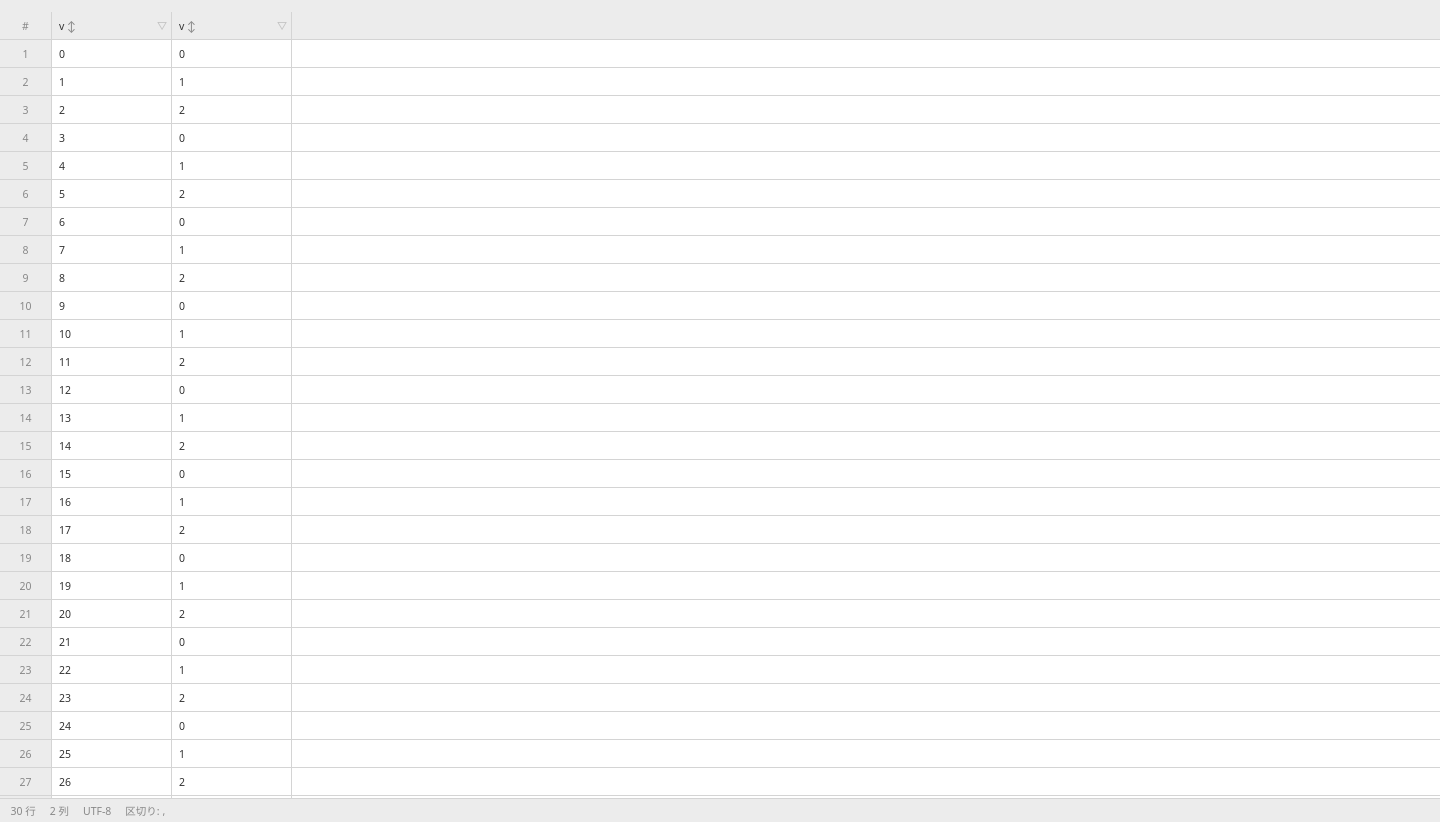
CsvViewer の同じ名前の列のフィルタ › 片方の列の条件を解除しても、同じ名前のもう片方の条件は残る
The width and height of the screenshot is (1440, 822).
Later steps or results of the test are not shown.
Click the 2nd button titled "フィルタ".
click(282, 26)  # box [273,12,291,40]
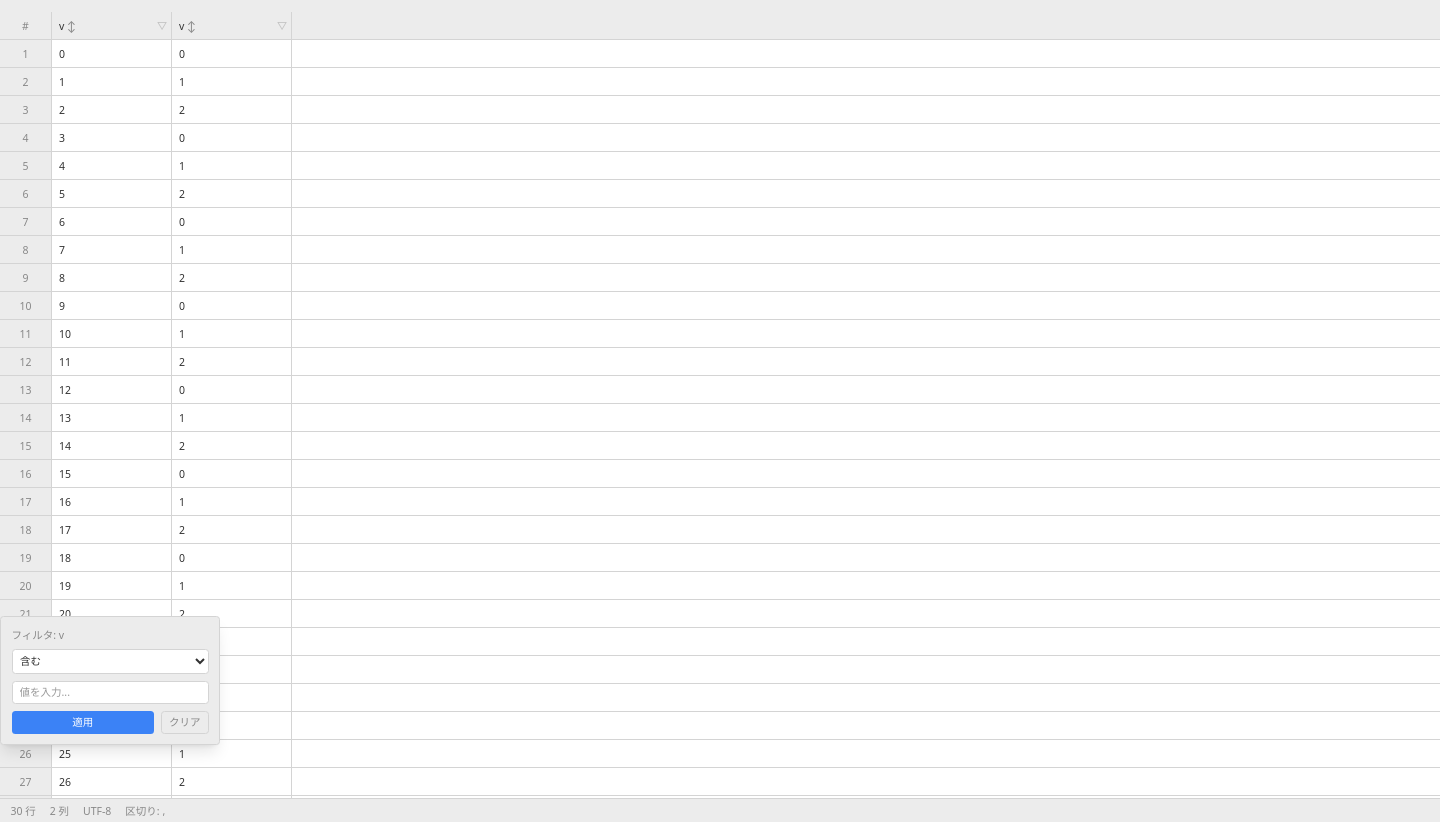
Type "1" into the field with placeholder "値を入力...".
click(110, 692); type("1")  # box [12,680,208,704]
Click the button "適用".
click(83, 722)  # box [12,710,154,734]
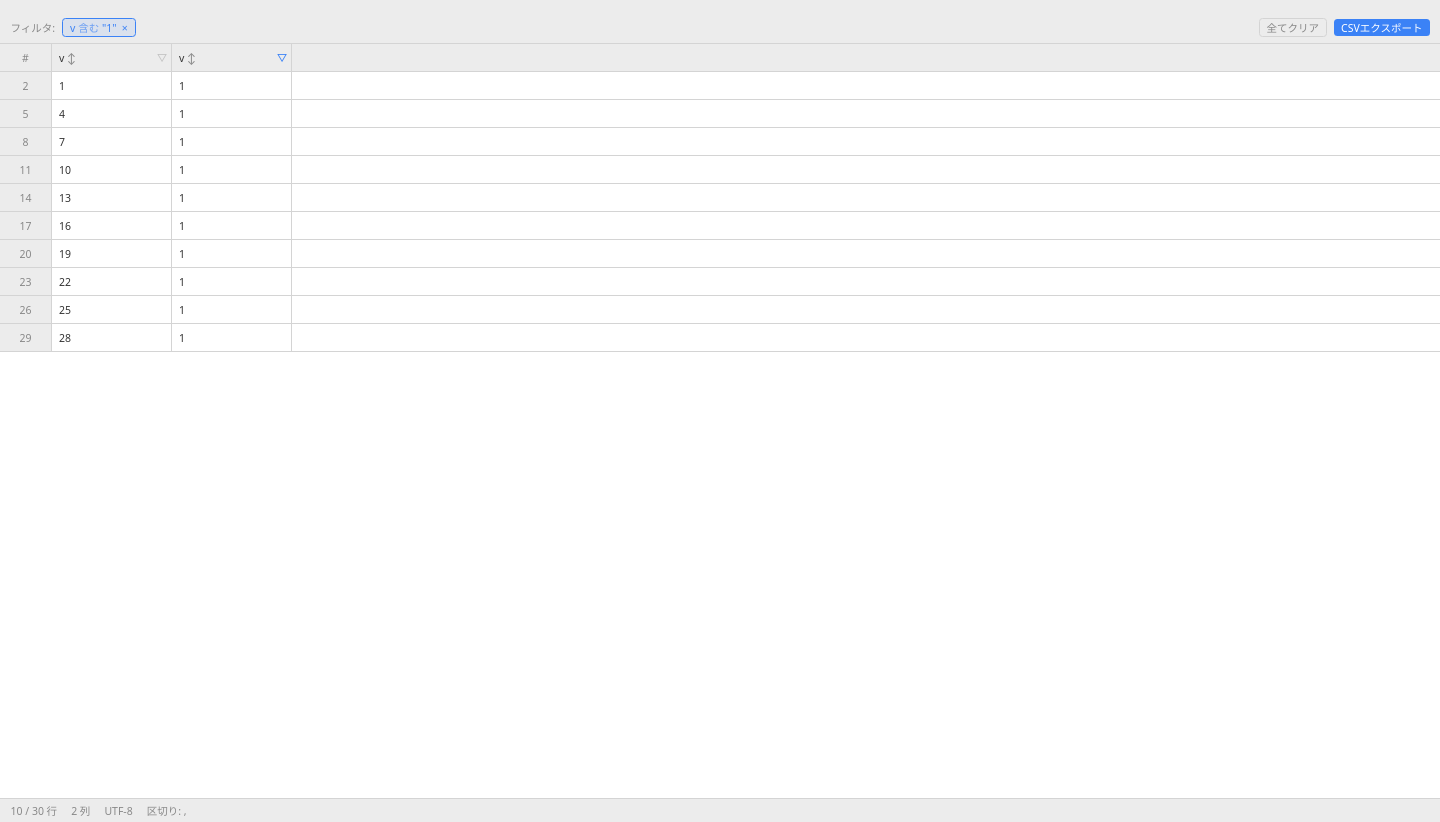
Click the 1st button titled "フィルタ".
click(162, 58)  # box [153,44,171,72]
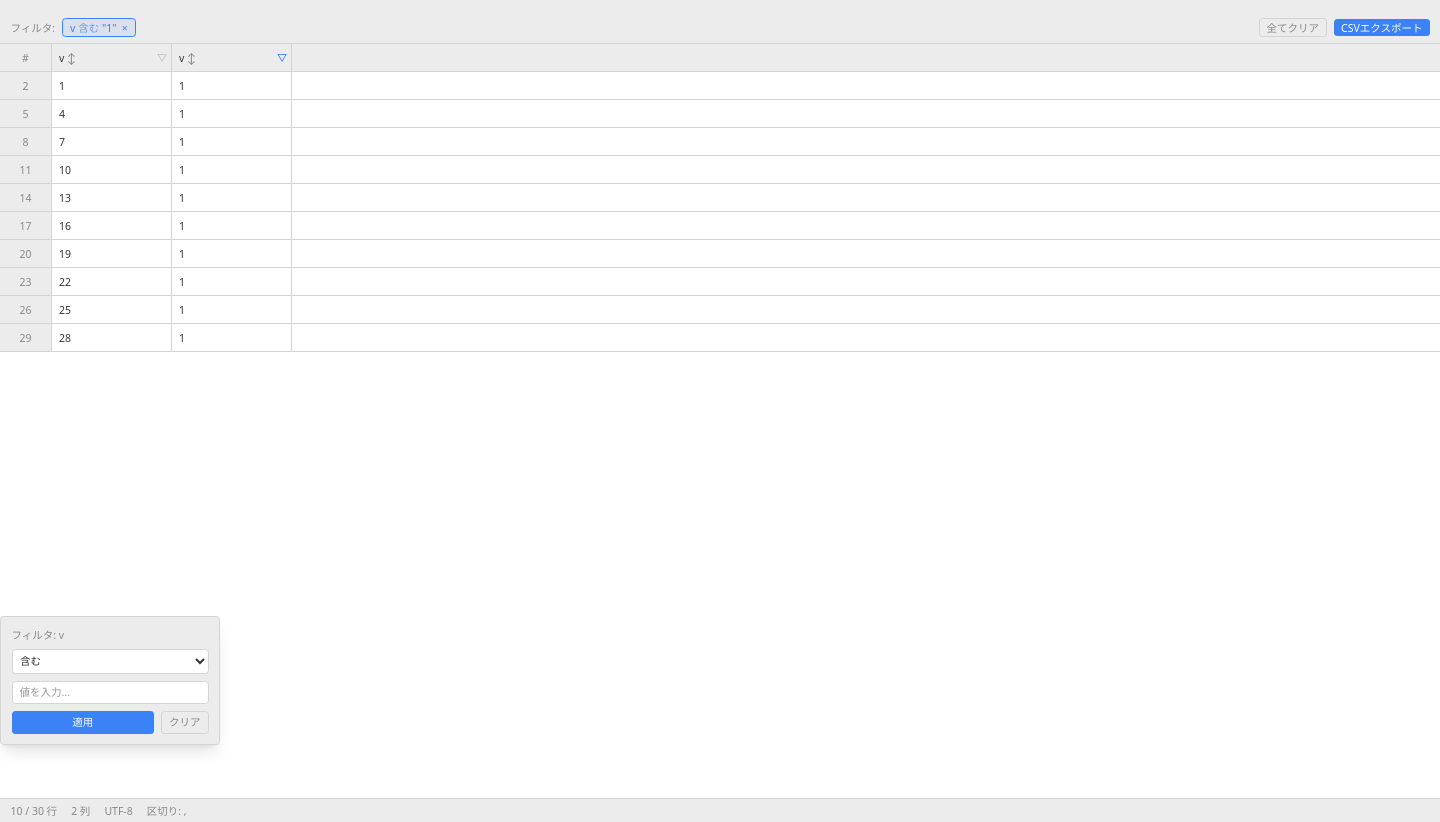
Type "2" into the field with placeholder "値を入力...".
click(110, 692); type("2")  # box [12,680,208,704]
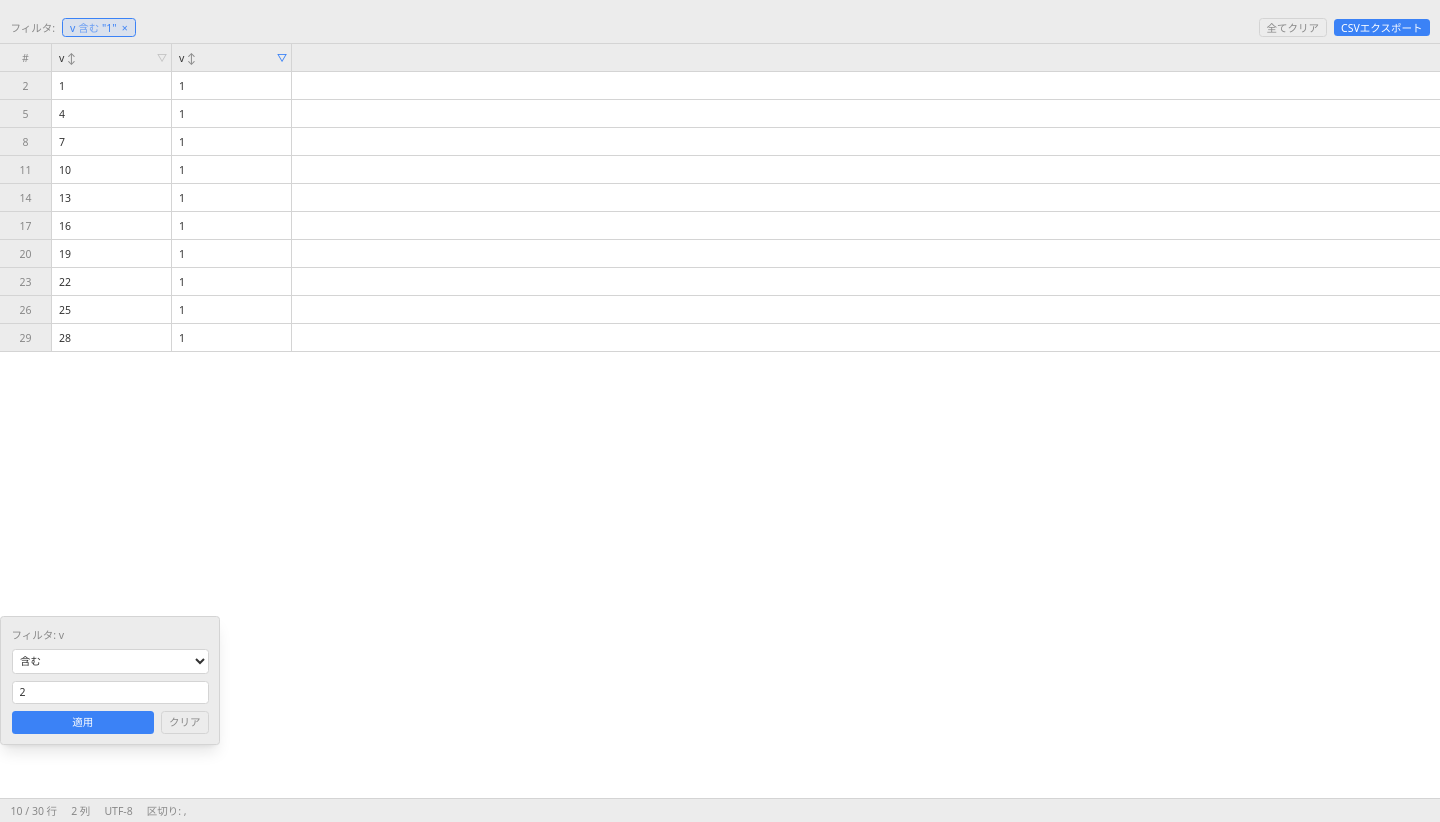
Click the button "適用".
click(83, 722)  # box [12,710,154,734]
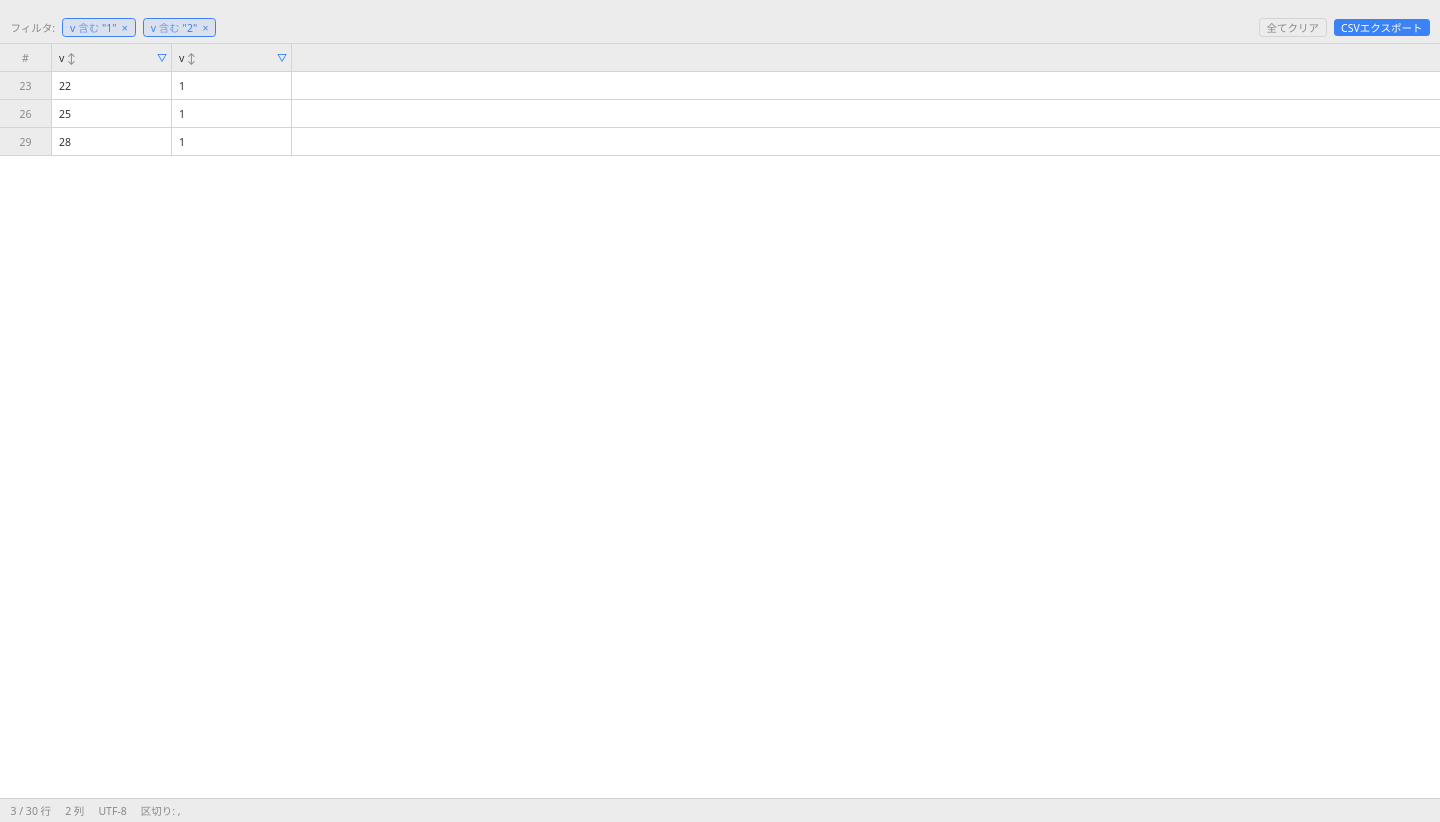
Click the 1st button titled "フィルタ".
click(162, 58)  # box [153,44,171,72]
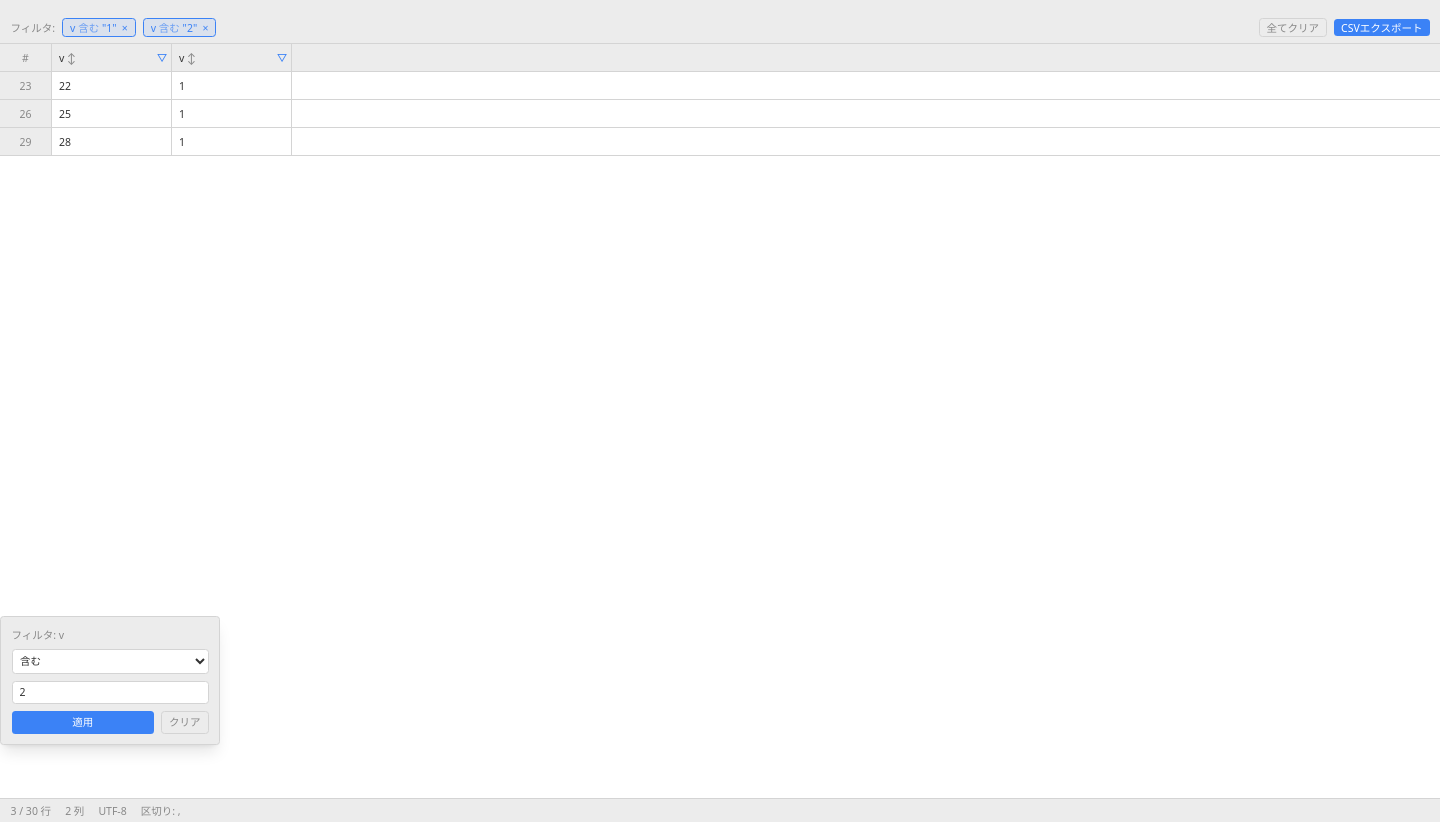
Now the field with placeholder "値を入力..." holds "2", box [12,680,208,704]
